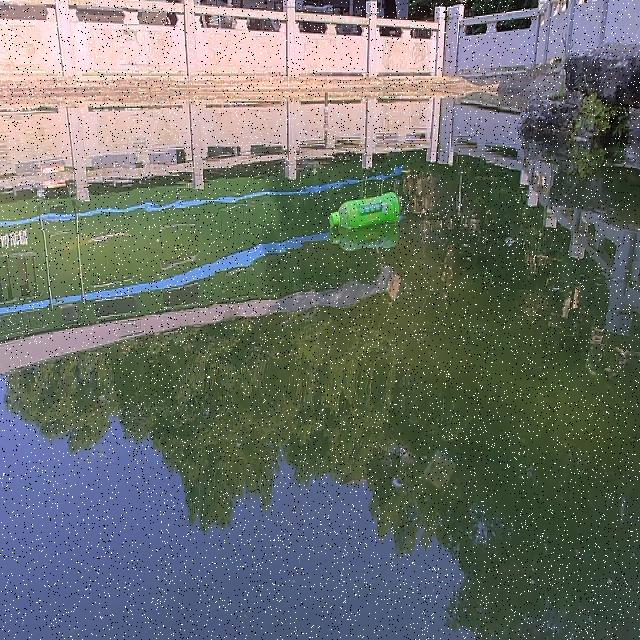Bottle: (323, 189, 404, 232)
